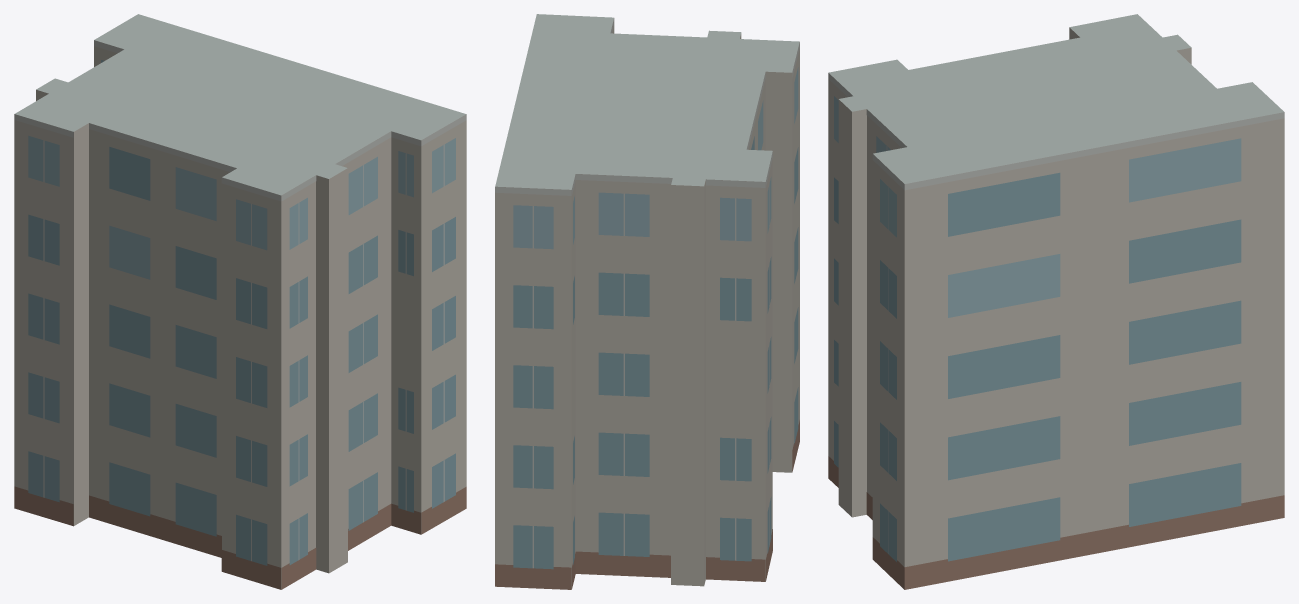
The model's file is survey-upis-32723275.glb.
3 renders of one model, left to right at view 1: azimuth 30°, elevation 25°; view 2: azimuth 150°, elevation 25°; view 3: azimuth 270°, elevation 25°, orthographic. The views are drawn at different scales.
Parts seen in each view (by area): view 1: survey-upis-32723275.tmp; view 2: survey-upis-32723275.tmp; view 3: survey-upis-32723275.tmp.
Part boxes in pixels (left/top/right/bottom): survey-upis-32723275.tmp: left=14, top=14, right=466, bottom=589; survey-upis-32723275.tmp: left=495, top=14, right=799, bottom=589; survey-upis-32723275.tmp: left=828, top=14, right=1284, bottom=589.
Size of the model in its own units: 14.4 by 16 by 16.32.
